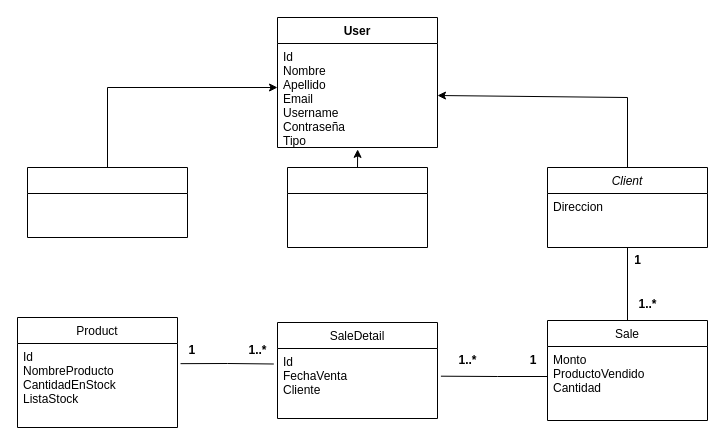
Some shapes in this 725 by 448 pixel diagram are drawn without their labels. Here are the shapes that lost their labels. From the top down, the centre of each, then its label:
the point at 107,202: SysAdmin
the point at 357,207: Admin
